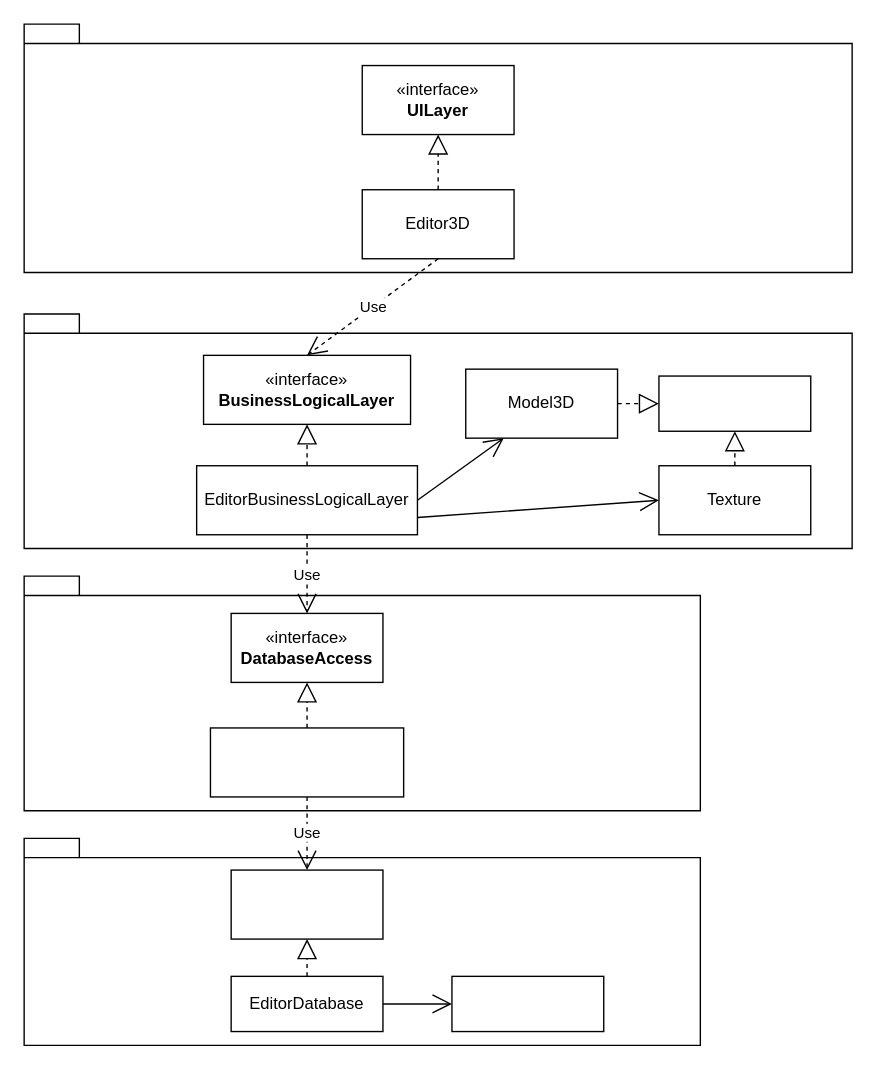
The diagram is 876 pixels wide and 1070 high, and some of its shapes have lost their labels. The centre of each missing label's shape, as x and y in pixels:
"EditorDatabaseAccess" belongs at point 306,762.
"ProjectFile" belongs at point 527,1003.
"«interface» Database" belongs at point 306,904.
"«interface» Entity" belongs at point 734,403.
